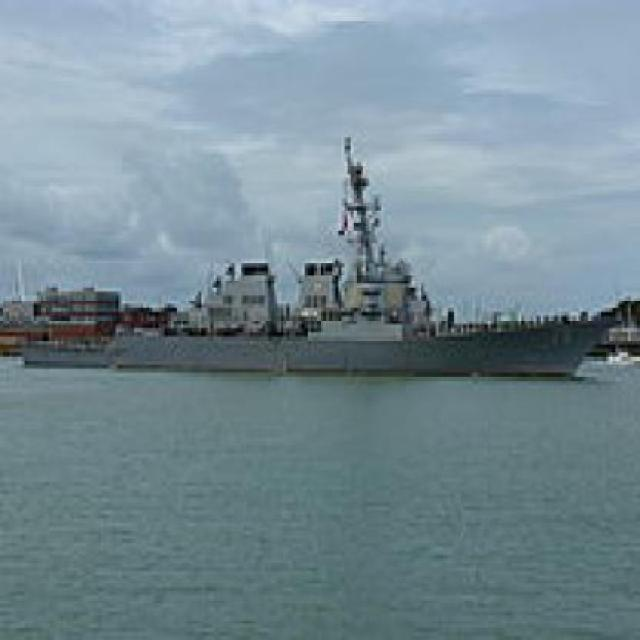warship2: (34, 151, 590, 406)
